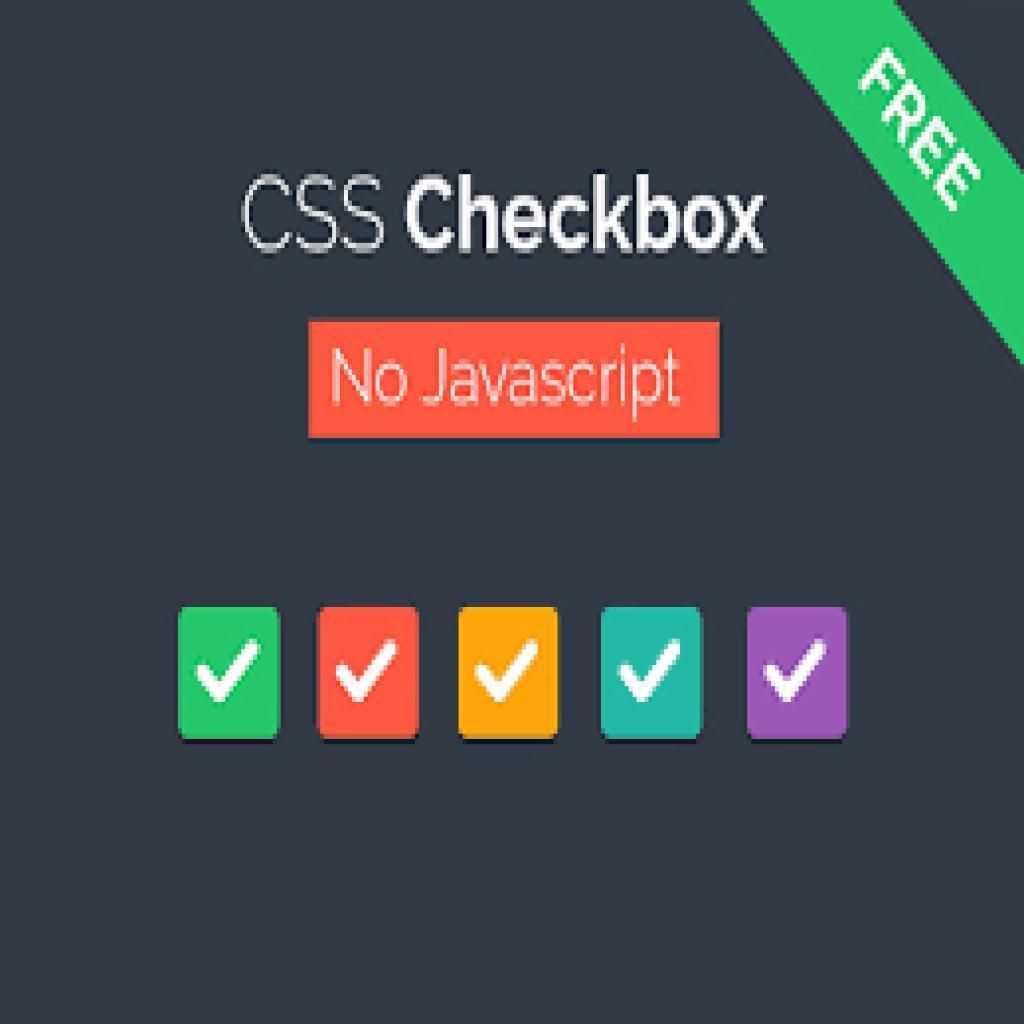button: (312, 322, 721, 440)
checkbox: (743, 604, 854, 744), (456, 603, 562, 746), (176, 607, 285, 745), (315, 607, 424, 742), (600, 606, 706, 744)
